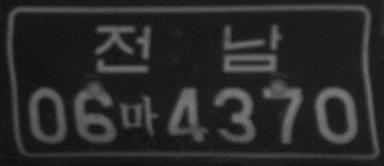0: (313, 86, 360, 146), (27, 85, 68, 145)
3: (213, 86, 257, 145)
4: (167, 85, 208, 143)
6: (72, 86, 117, 143)
7: (260, 86, 305, 146)
마: (119, 94, 159, 136)
전남_D: (94, 21, 283, 76)
